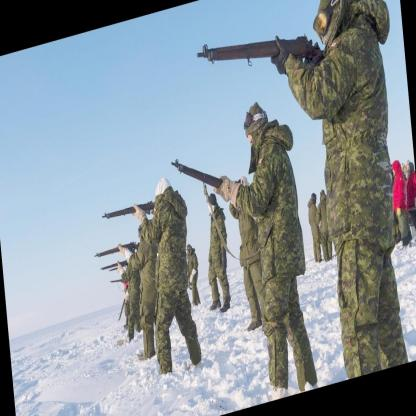rifle: (188, 4, 326, 108), (167, 145, 229, 205), (98, 194, 156, 232), (87, 235, 139, 265)
